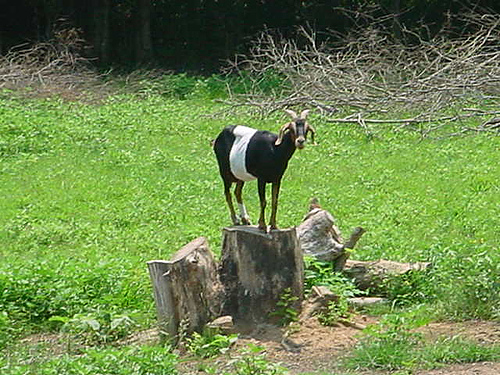goat: (213, 108, 316, 234)
